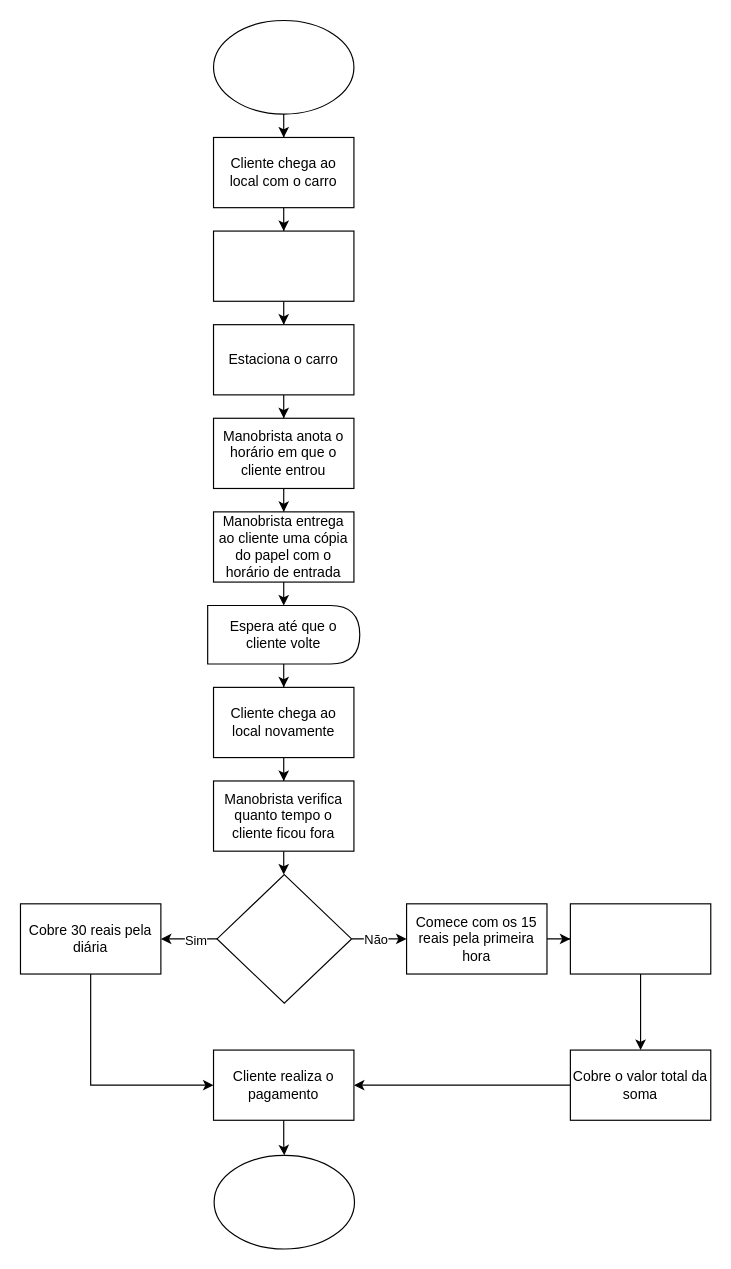
This 731x1269 diagram has some shape labels left out. The centre of each missing label's shape, as x and y in pixels:
"Adicione 3 reais por cada hora subsequente" goes at [640,938].
"Ele ficou mais de 12 horas fora?" goes at [284,938].
"Fim" goes at [284,1201].
"Início" goes at [283,66].
"Manobrista vai até o carro" goes at [283,265].
